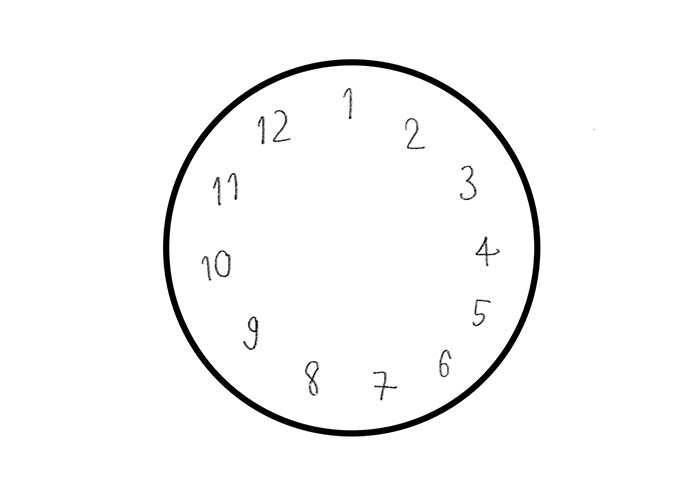eight: (299, 353, 325, 401)
eleven: (210, 166, 244, 209)
five: (468, 293, 495, 330)
four: (469, 231, 503, 268)
nine: (243, 312, 265, 353)
one: (337, 84, 358, 121)
seven: (369, 368, 397, 405)
six: (433, 346, 455, 380)
ten: (199, 249, 234, 282)
three: (453, 159, 480, 202)
twelve: (252, 111, 297, 147)
two: (400, 114, 425, 153)
